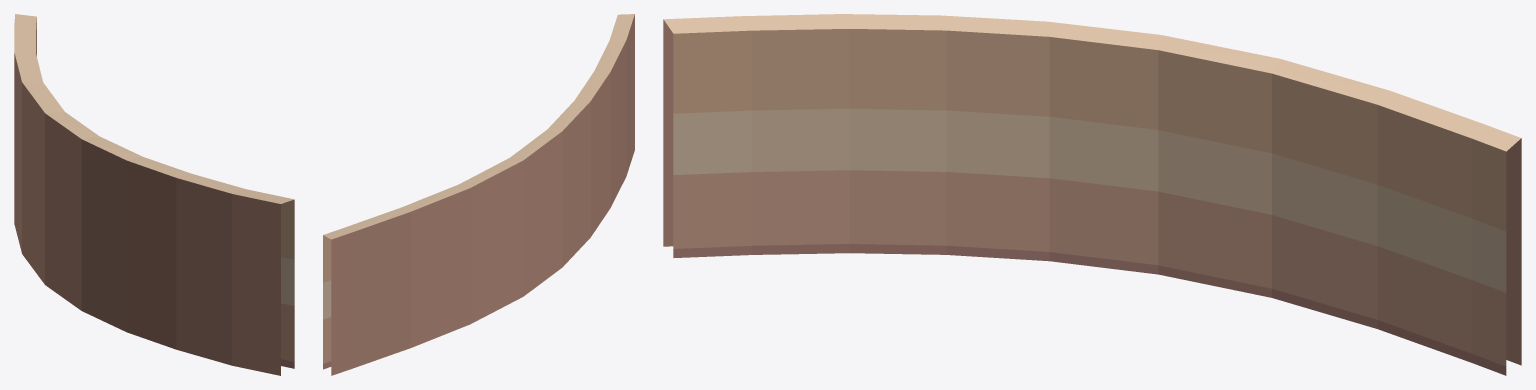
File: pared_izquierda_3.glb
The picture shows the model from 3 angles, left to right: view 1: azimuth 30°, elevation 25°; view 2: azimuth 150°, elevation 25°; view 3: azimuth 270°, elevation 25°; orthographic projection. The views are drawn at different scales.
Parts seen in each view (by area): view 1: pared_izquierda_3; view 2: pared_izquierda_3; view 3: pared_izquierda_3.
Part boxes in pixels (x1,y1,x2,y2): pared_izquierda_3: [14, 14, 294, 375]; pared_izquierda_3: [323, 14, 634, 375]; pared_izquierda_3: [663, 14, 1521, 375].
Bounding box in the file's own units: 5.79 × 10.04 × 25.3.
